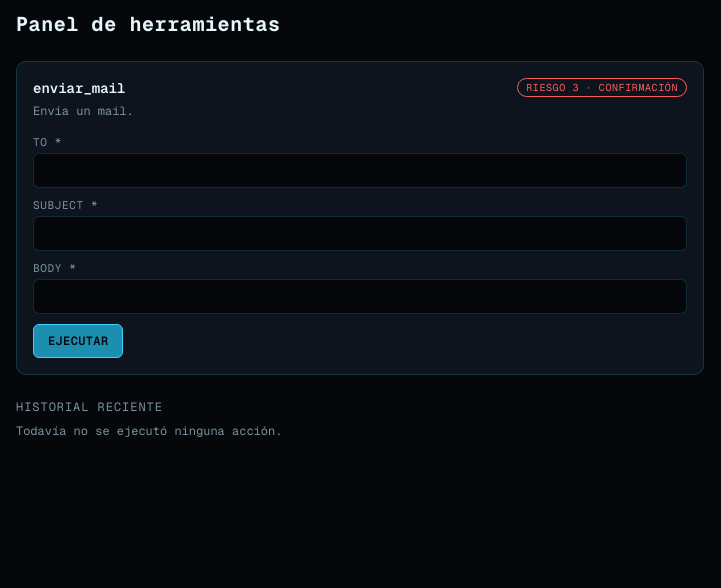
Scenario: PanelClient › shows a confirmation review for a risk-level-3 macro and only executes it after confirming
The width and height of the screenshot is (721, 588).
Type "juan@mail.com" into the field labelled "to" at (360, 170), box [33,153,687,188]
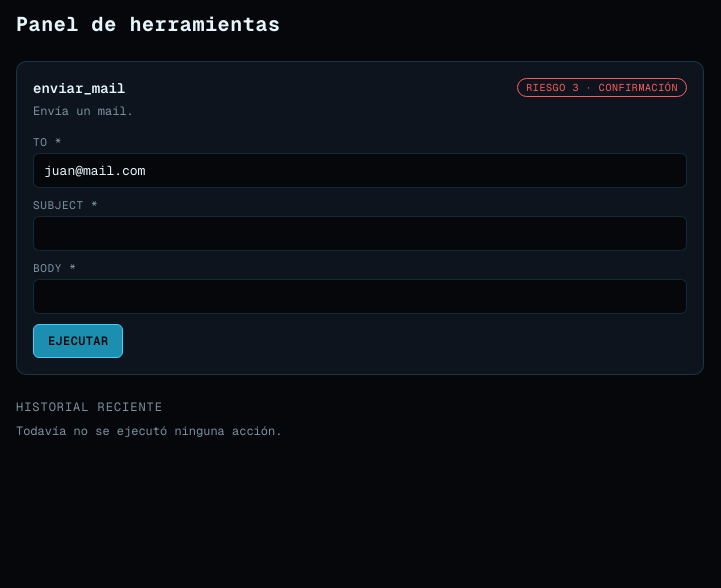
Type "Hola" into the field labelled "subject" at (360, 234), box [33,216,687,251]
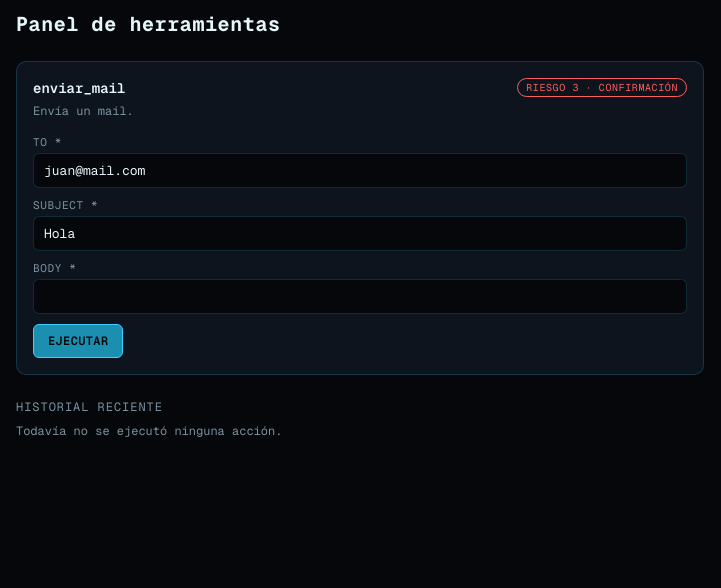
Type "Test" into the field labelled "body" at (360, 296), box [33,279,687,314]
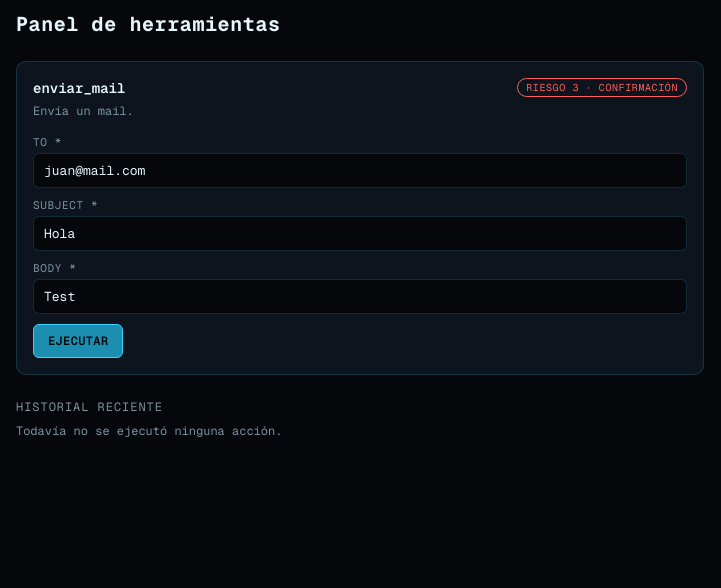
Click the button "Ejecutar" at (78, 341), box [33,324,124,358]
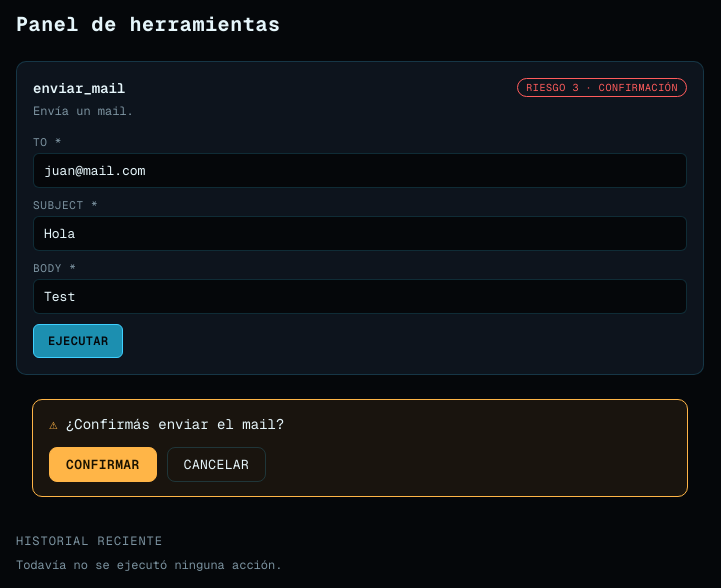
Expected: the text "¿Confirmás enviar el mail?" is shown, [66,415,284,433]
Click the button "Confirmar" at (103, 464), box [49,447,157,482]
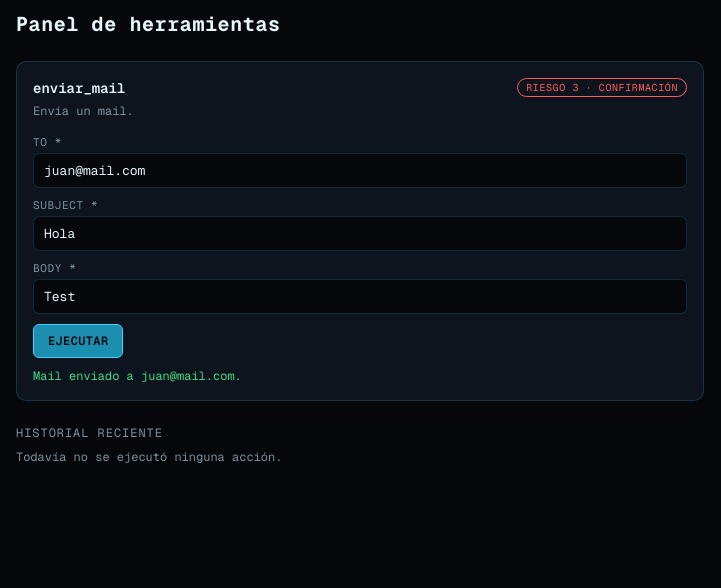
Expected: the text "Mail enviado a juan@mail.com." is shown, [33,368,242,384]
